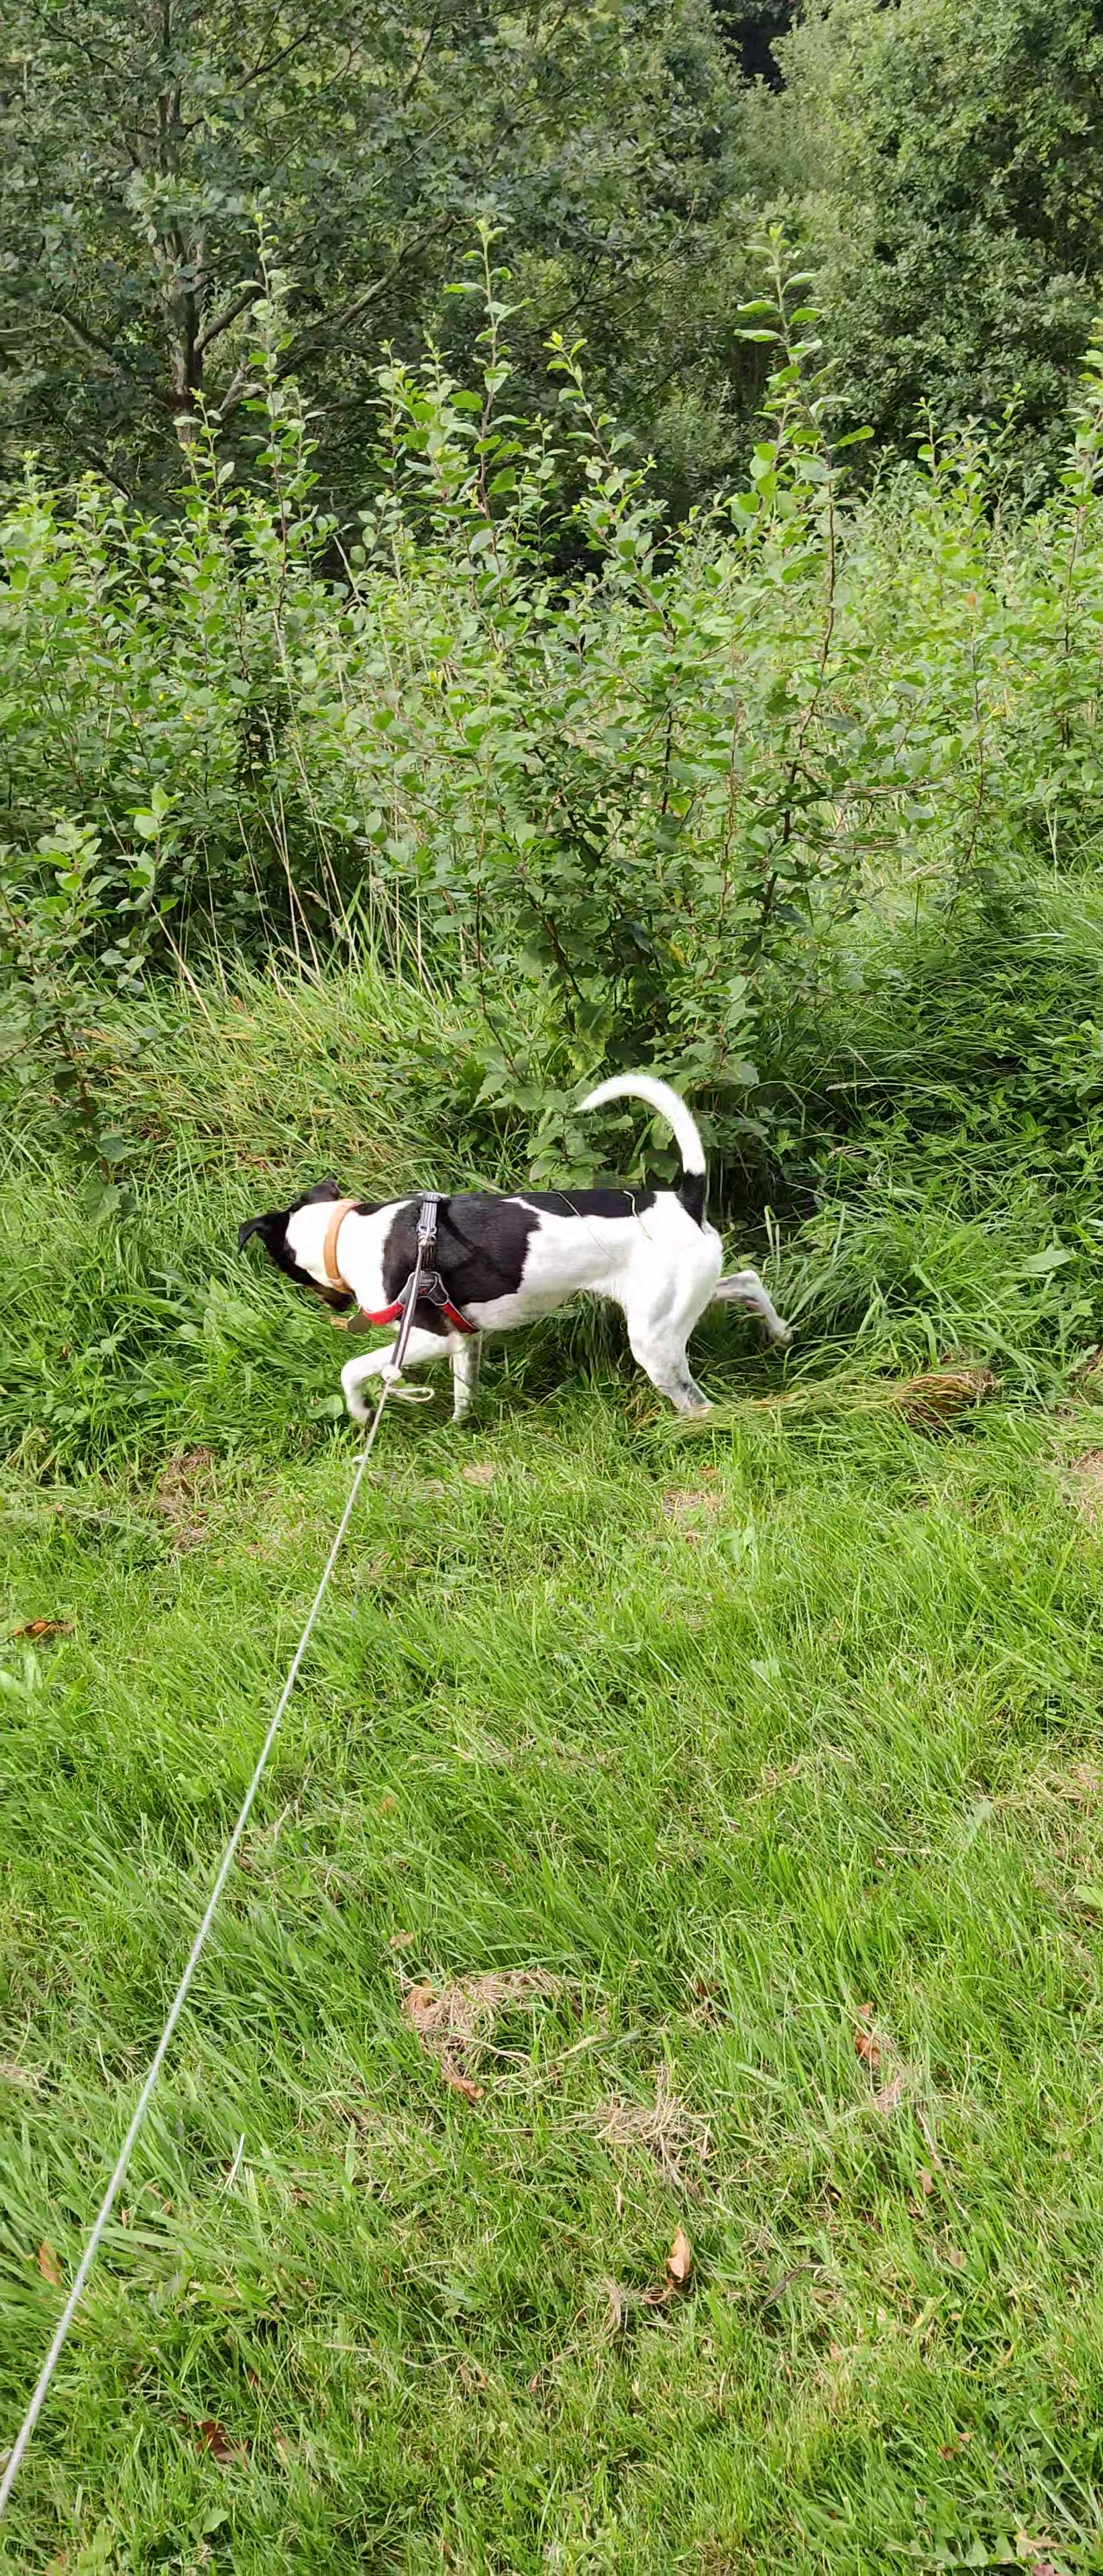Dog: (228, 1068, 801, 1431)
